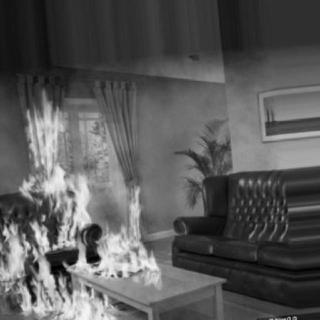Fire: (2, 95, 117, 320), (97, 179, 166, 280)
